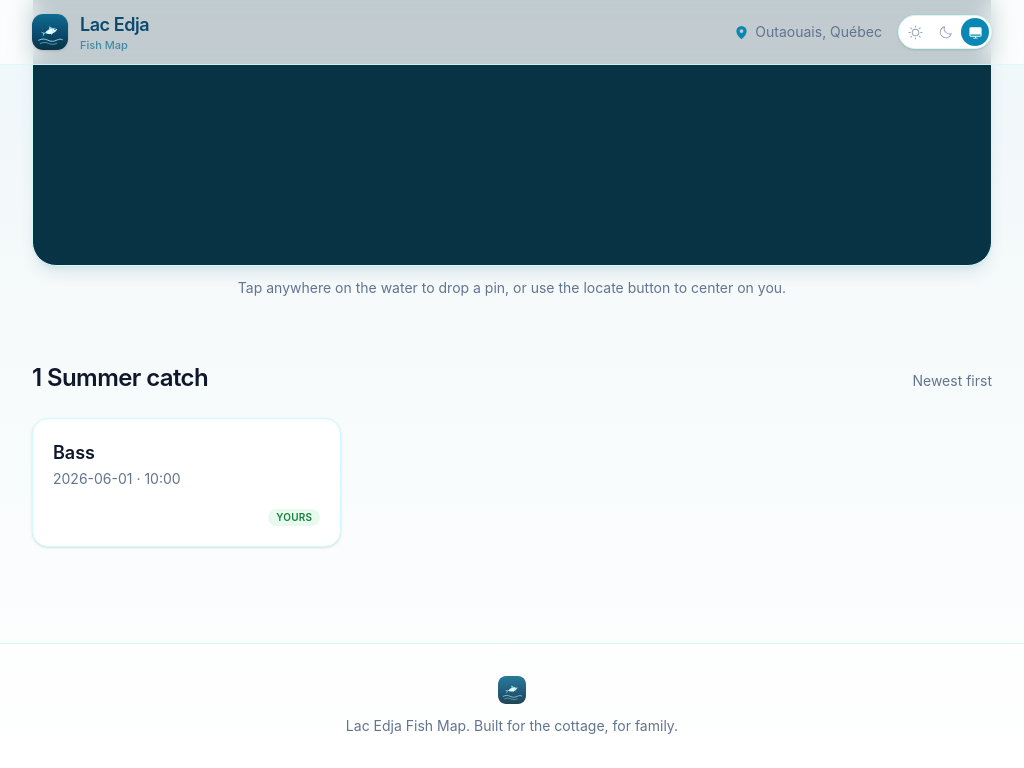
App: performDelete › network error on DELETE queues via enqueueDelete and optimistically removes the report
(page scrolled)
Expected: the text "Bass" is shown, left=53, top=442, right=95, bottom=462
Click the text "Bass". click: click(187, 482)
box: left=32, top=418, right=341, bottom=547
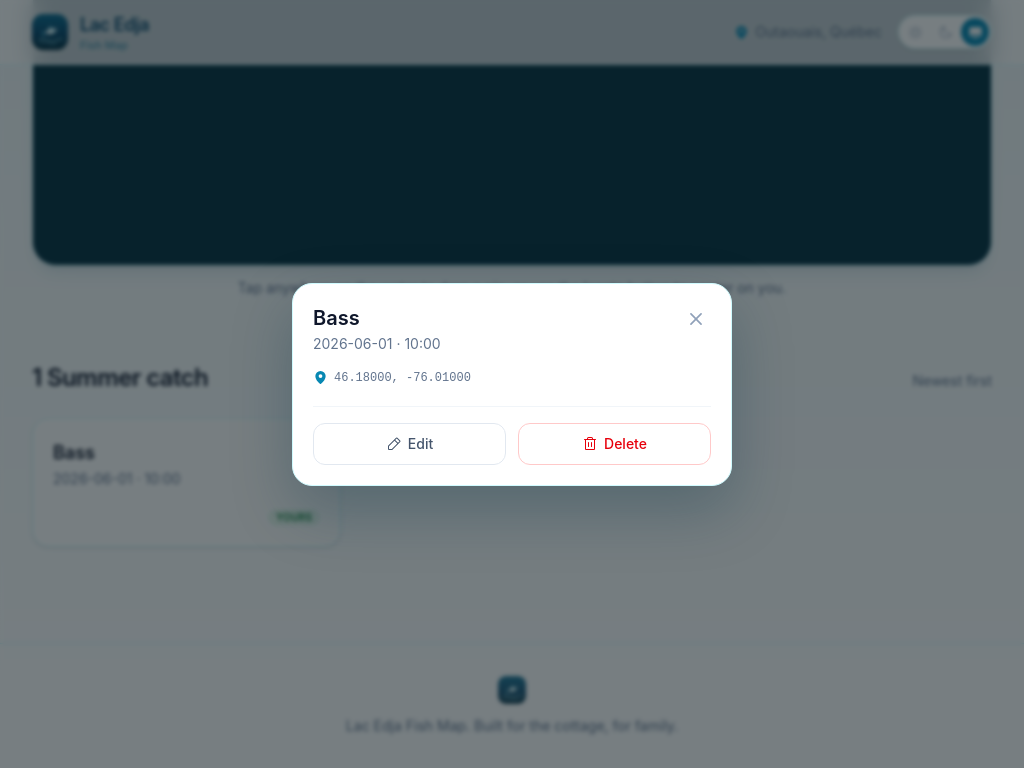
Now the element with class "edja-detail" is shown, box left=292, top=282, right=732, bottom=486
Now the button "Delete" is shown
Click the button "Delete". click: click(614, 444)
box: left=518, top=422, right=711, bottom=464
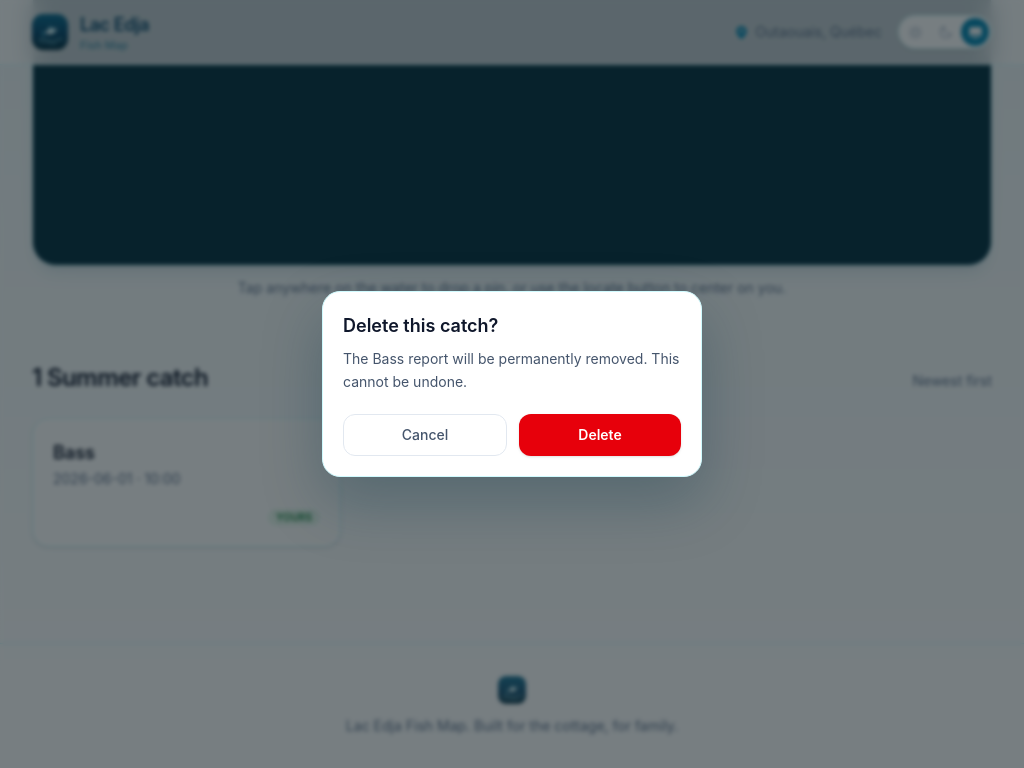
Now the dialog with class "edja-confirm" is shown, box left=322, top=291, right=702, bottom=477
Now the button "Delete" is shown
Click the button "Delete". click: click(600, 435)
box: left=519, top=414, right=681, bottom=456
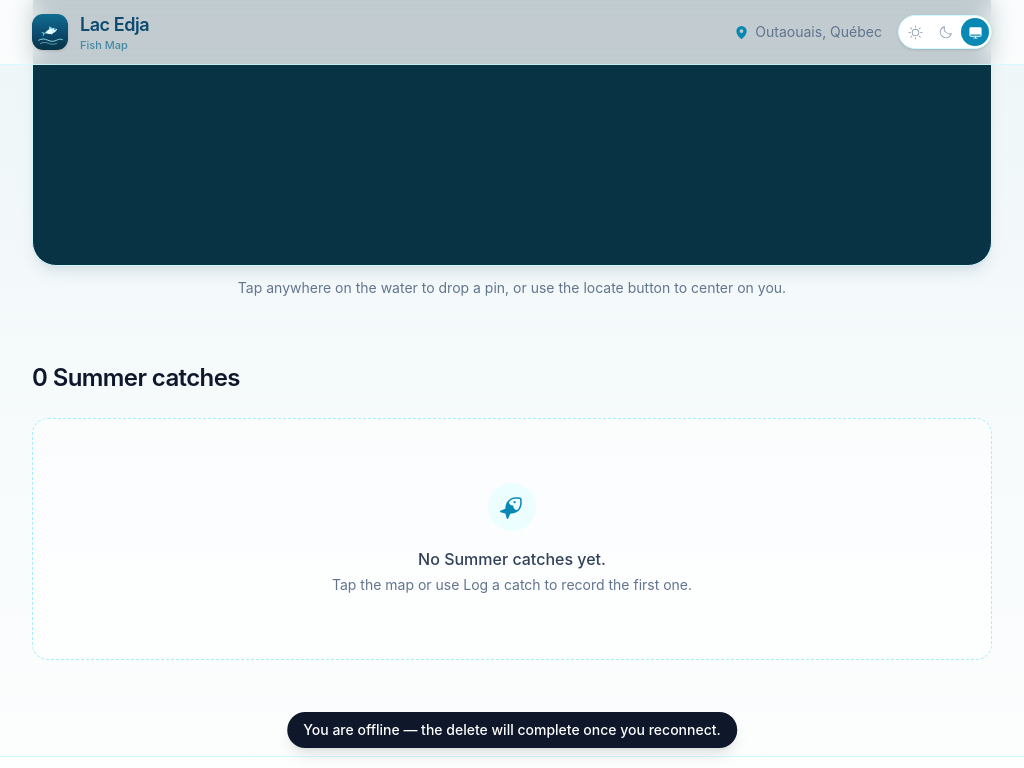
Now the heading "Bass" is gone
